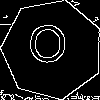O: (27, 24, 68, 72)
